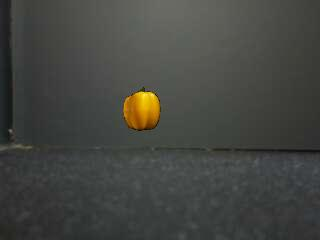Capsicum: (122, 86, 163, 132)
